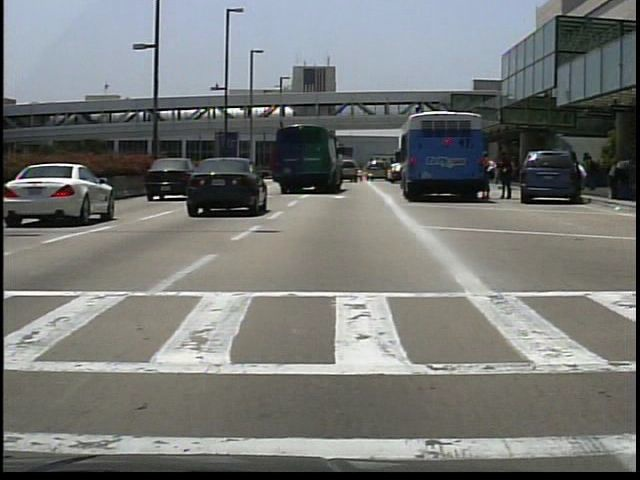person: (479, 151, 496, 202), (497, 154, 513, 200), (575, 161, 591, 201)
